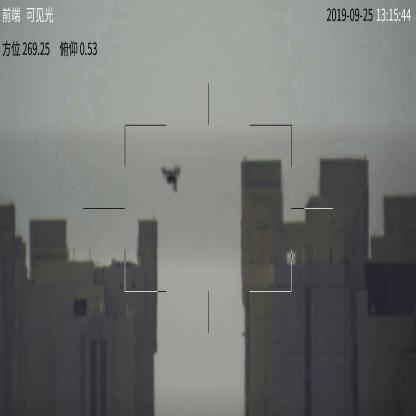uav: (160, 164, 182, 193)
